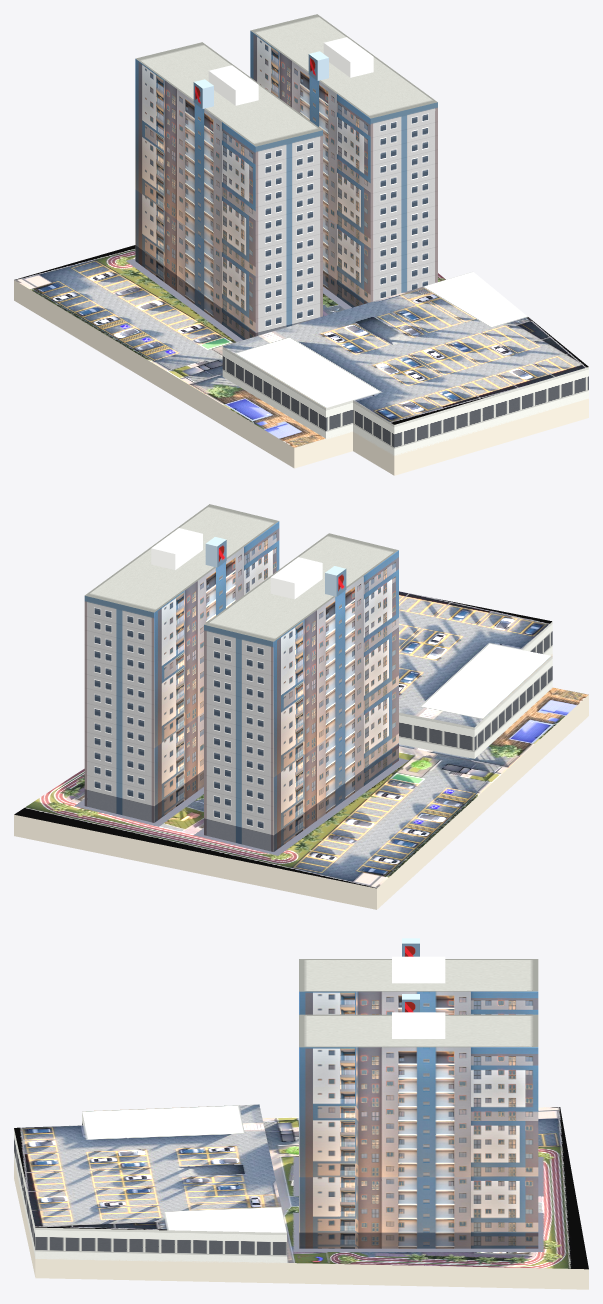
The model's file is easy-rota-maquete-r72.glb.
The picture shows the model from 3 angles, top to bottom: view 1: azimuth 30°, elevation 25°; view 2: azimuth 150°, elevation 25°; view 3: azimuth 270°, elevation 25°; orthographic projection. The views are drawn at different scales.
Parts seen in each view (by area): view 1: easy-rota-do-mar; view 2: easy-rota-do-mar; view 3: easy-rota-do-mar.
Part boxes in pixels (left/top/right/bottom): easy-rota-do-mar: left=14, top=14, right=588, bottom=475; easy-rota-do-mar: left=14, top=504, right=588, bottom=909; easy-rota-do-mar: left=14, top=938, right=588, bottom=1289.
Size of the model in its own units: 72.25 by 50.2 by 108.
Materials: 9 (6 with a texture image).
